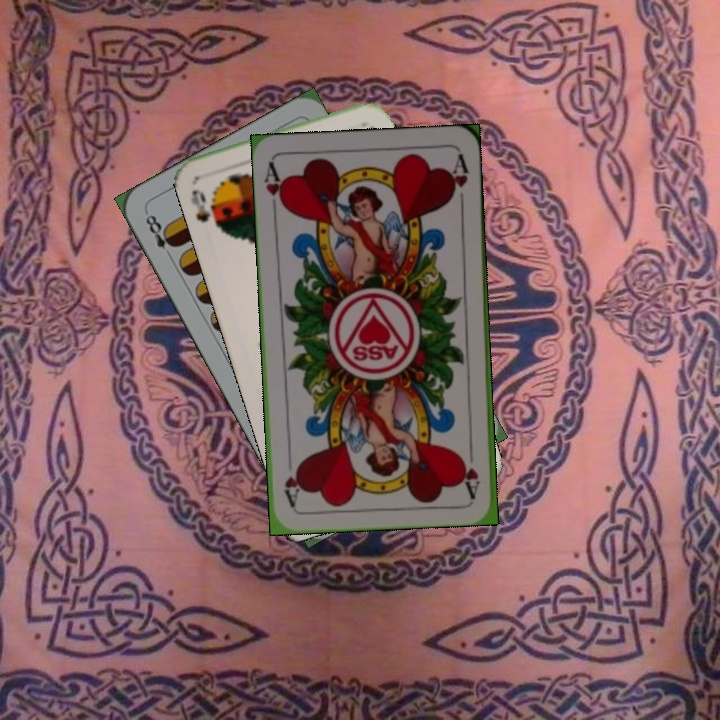E8: (141, 208, 180, 263)
HA: (260, 159, 289, 218), (460, 440, 483, 499)
SO: (187, 185, 213, 225)
